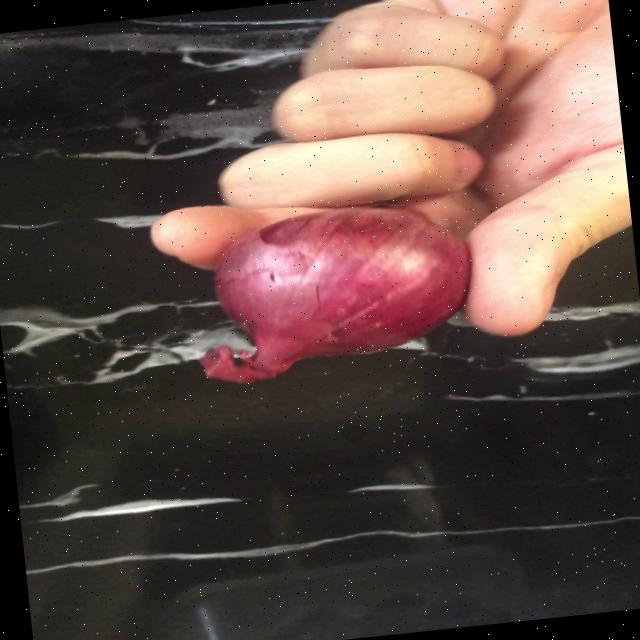Onion: (200, 205, 470, 382)
